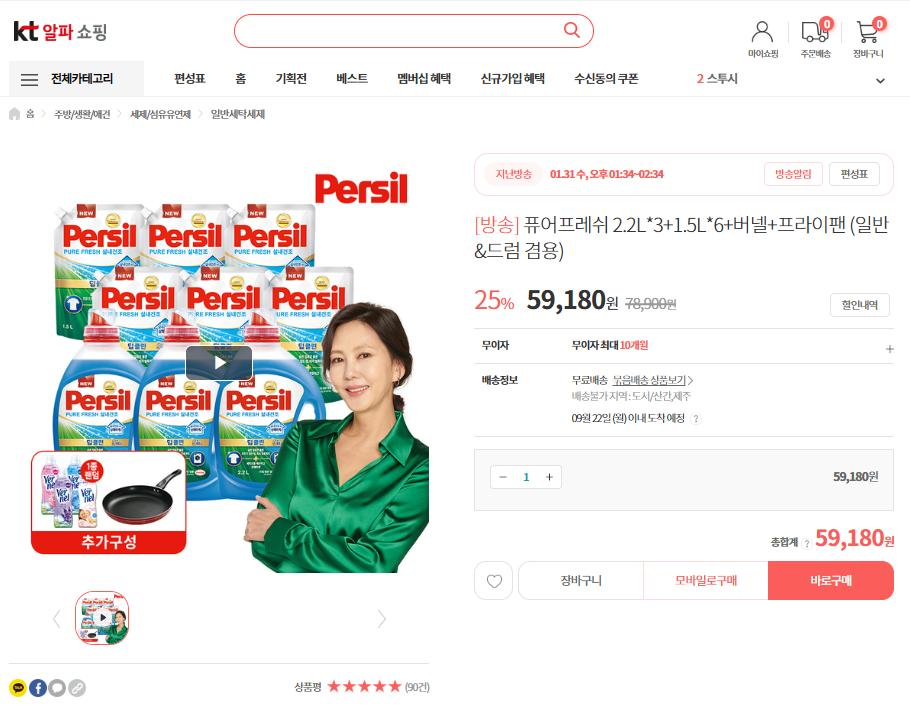button: (771, 559, 898, 600), (518, 563, 642, 600), (647, 563, 765, 598), (74, 591, 130, 643), (857, 12, 897, 58), (471, 562, 513, 604), (746, 17, 788, 58), (20, 71, 120, 88), (797, 16, 835, 59), (493, 465, 561, 485), (765, 162, 823, 185), (829, 296, 888, 317), (611, 375, 701, 387), (476, 74, 549, 88), (578, 68, 632, 85), (171, 71, 215, 90), (396, 70, 446, 85), (830, 166, 874, 182), (333, 68, 369, 87), (270, 72, 309, 87), (227, 72, 253, 87)
input_field: (234, 15, 592, 45)
